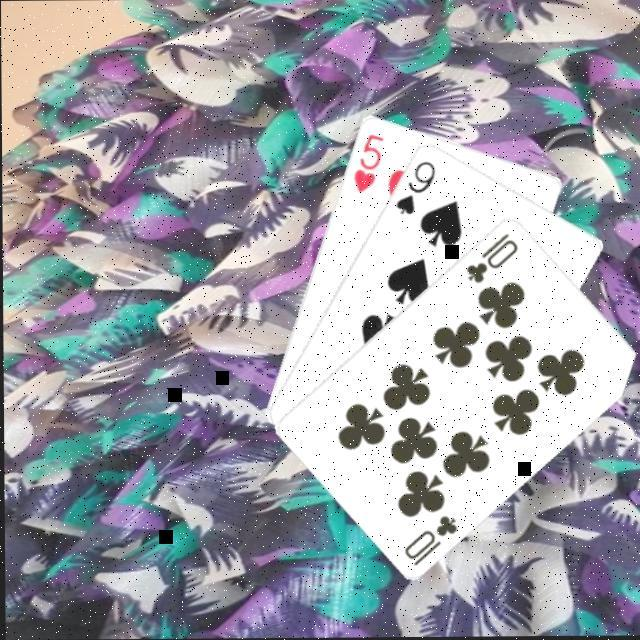10C: (397, 510, 458, 568), (460, 228, 520, 284)
5H: (347, 128, 385, 194)
9S: (390, 156, 436, 216)
